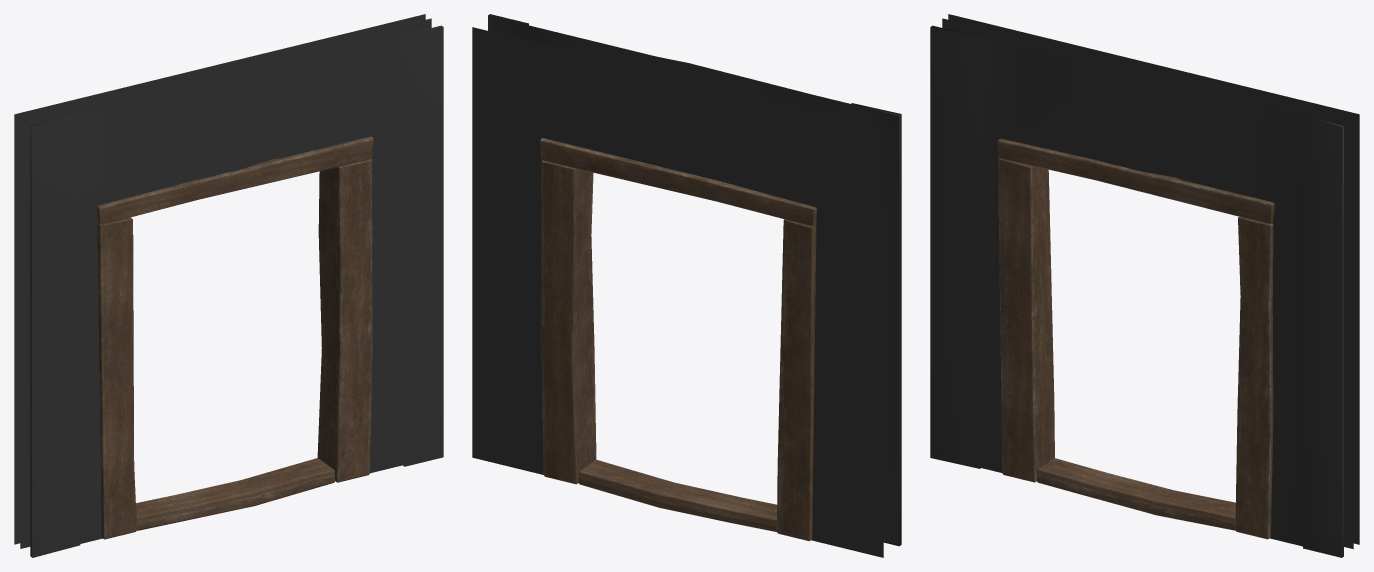
File: SM_Wall_Front_Door.FBX
3 views of the same model, side by side, from view 1: azimuth 30°, elevation 25°; view 2: azimuth 150°, elevation 25°; view 3: azimuth 330°, elevation 25° (orthographic).
Parts seen in each view (by area): view 1: SM_Wall_Front_Door_LOD0; view 2: SM_Wall_Front_Door_LOD0; view 3: SM_Wall_Front_Door_LOD0.
Boxes of the visible parts, box(x1,y1,x2,y2) form: SM_Wall_Front_Door_LOD0: box(14, 14, 443, 557); SM_Wall_Front_Door_LOD0: box(472, 14, 901, 557); SM_Wall_Front_Door_LOD0: box(930, 14, 1359, 557).
Size of what is drawn, in the model's own units: 300 by 29.34 by 303.
